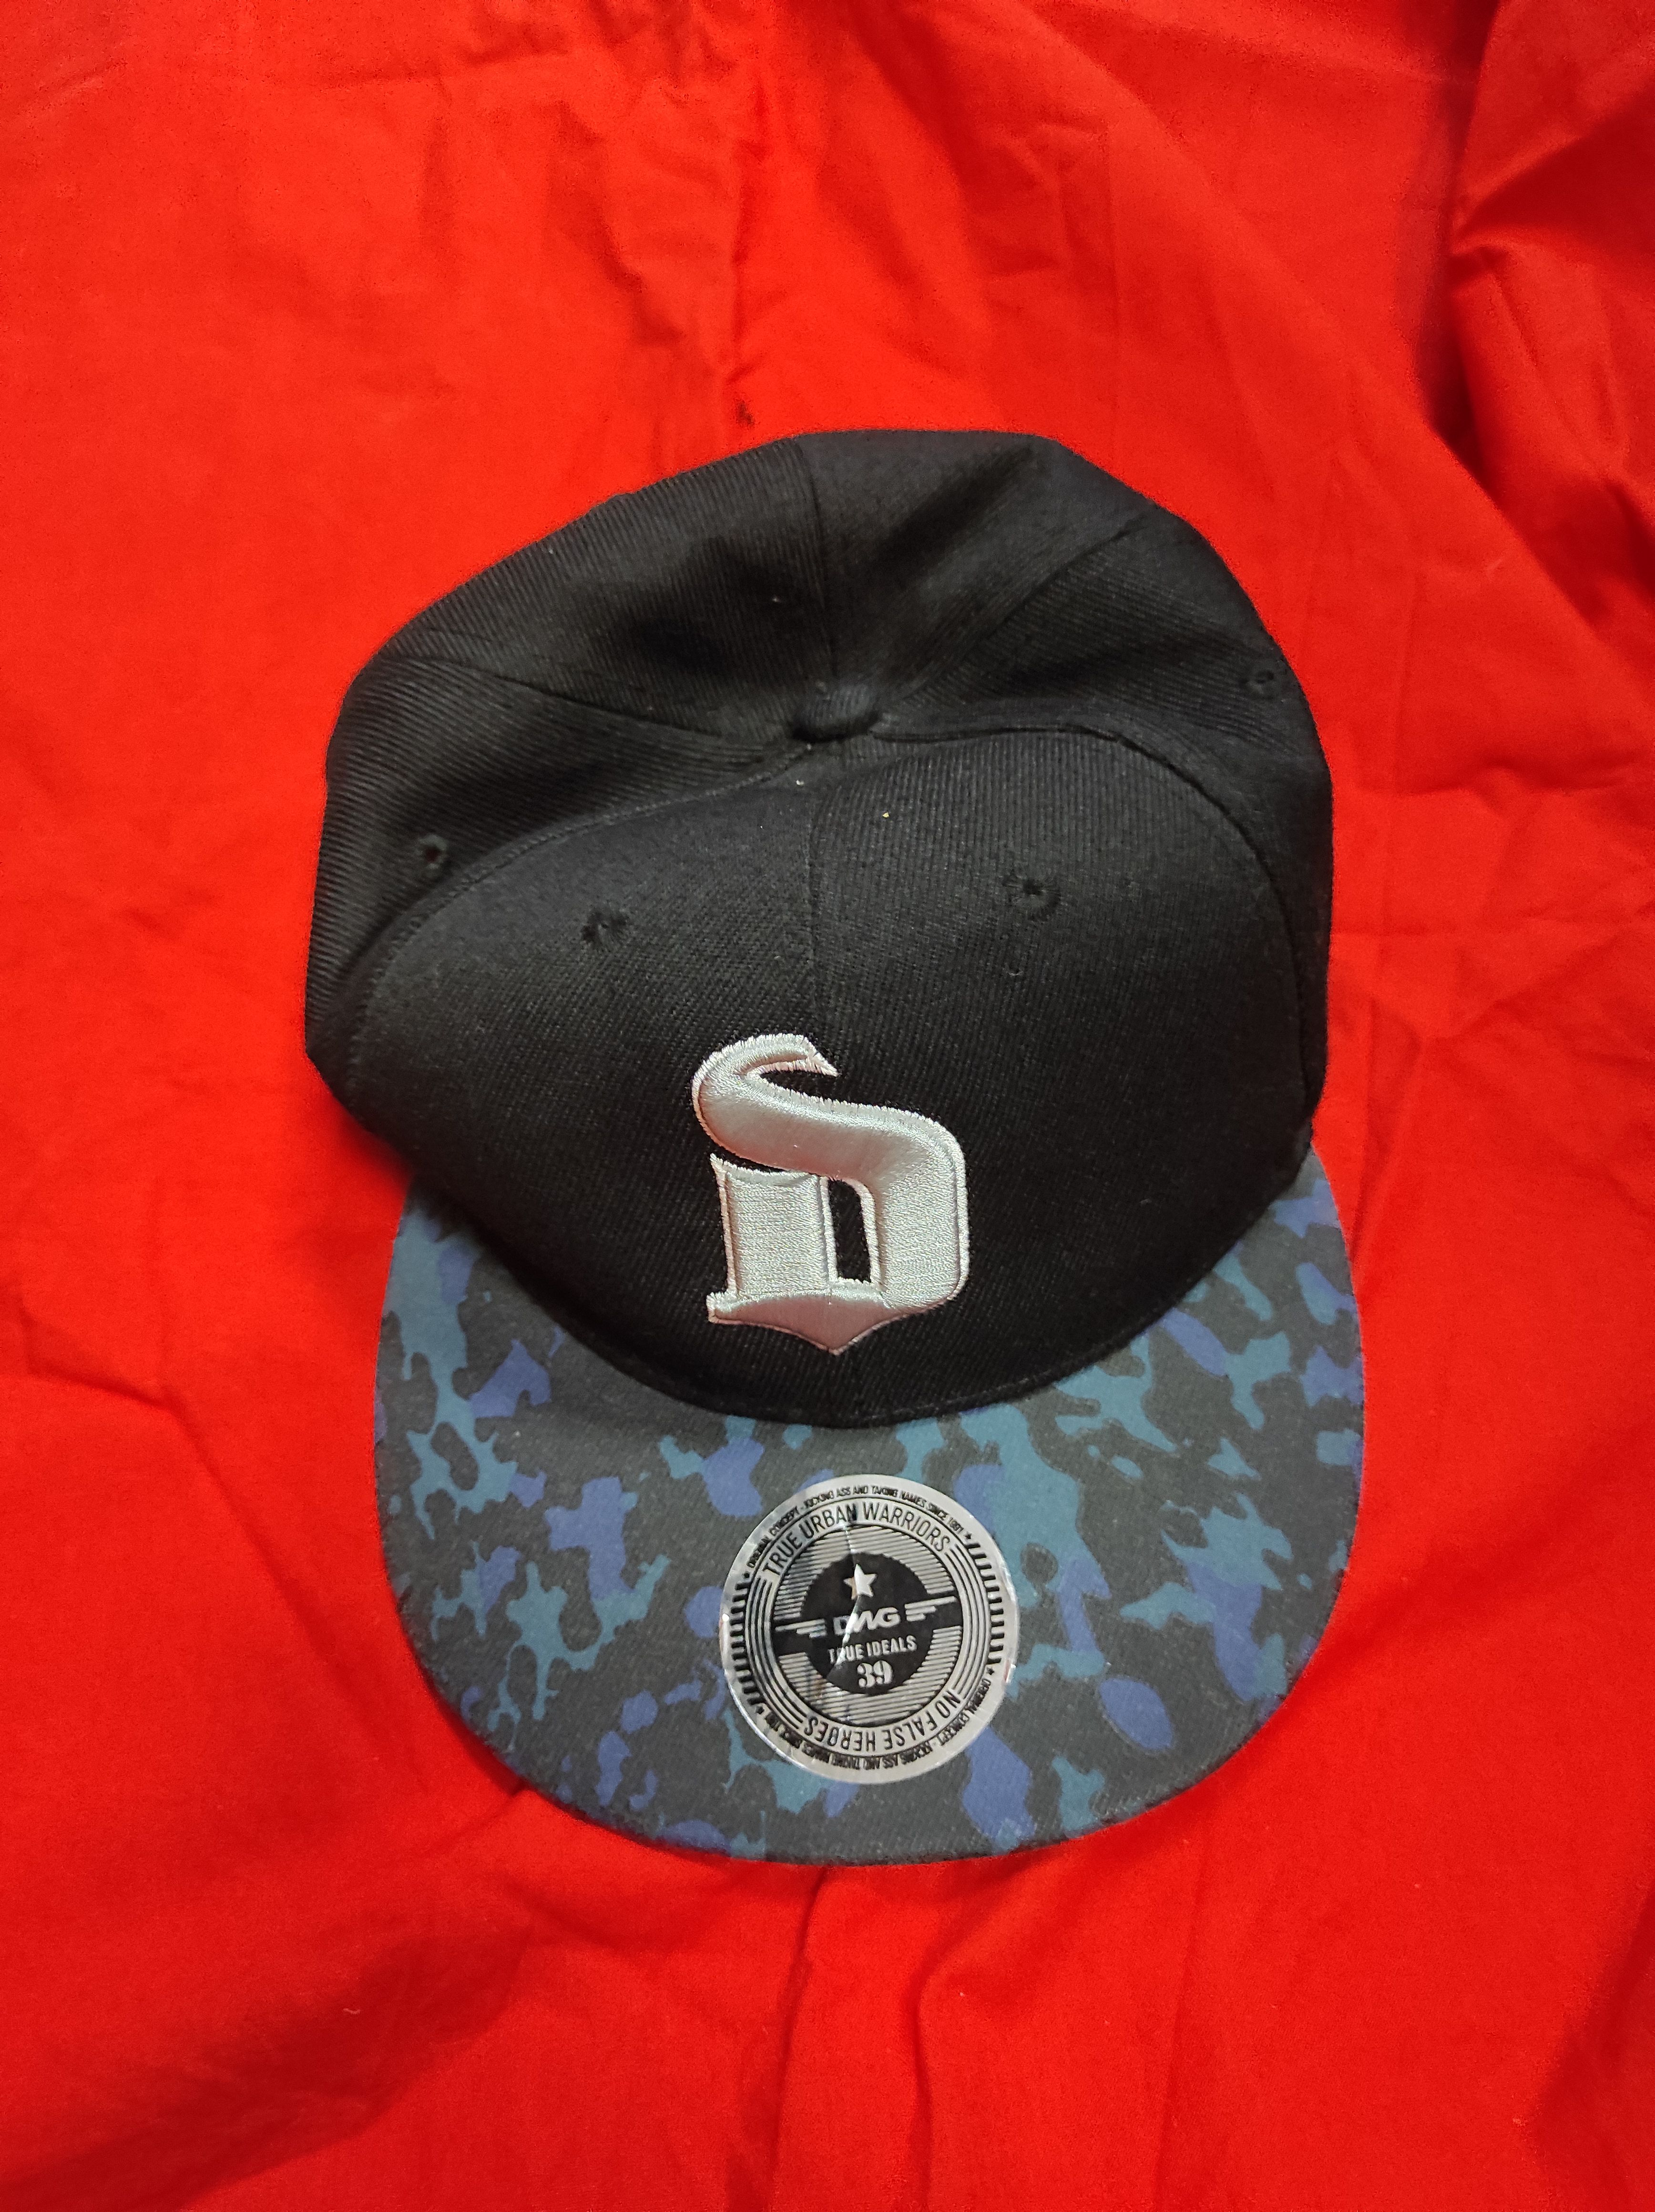clothes: (285, 449, 1377, 1833)
